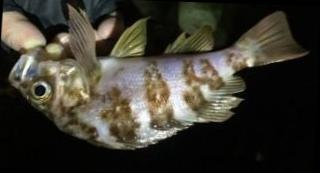fish: (7, 1, 310, 149)
